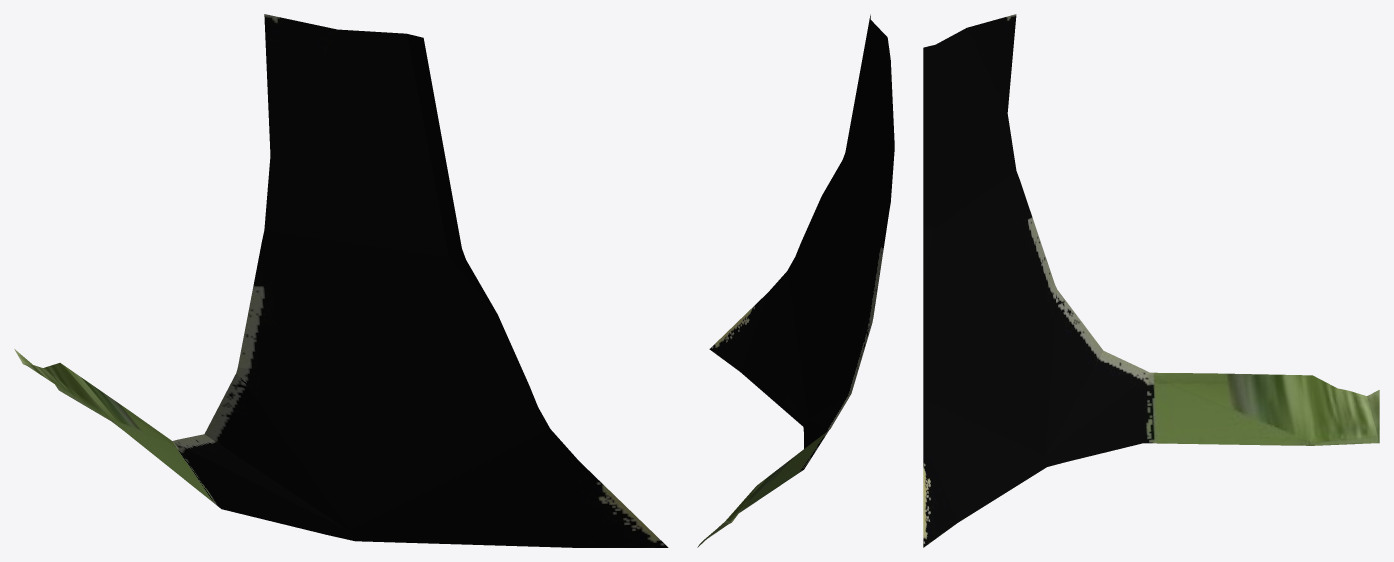
3 renders of one model, left to right at view 1: azimuth 30°, elevation 25°; view 2: azimuth 150°, elevation 25°; view 3: azimuth 270°, elevation 25°, orthographic. The views are drawn at different scales.
Size of the model in its own units: 3.69 by 5.9 by 5.9.
Materials: 1 (1 with a texture image).
